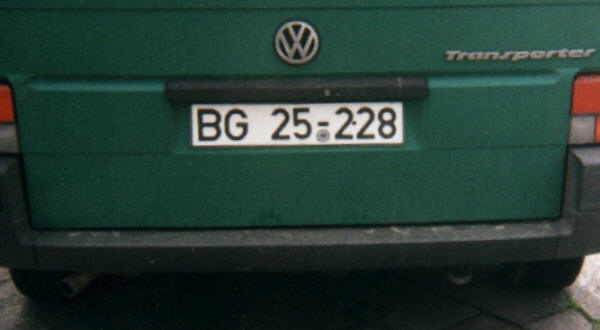license_plate: (190, 102, 406, 146)
